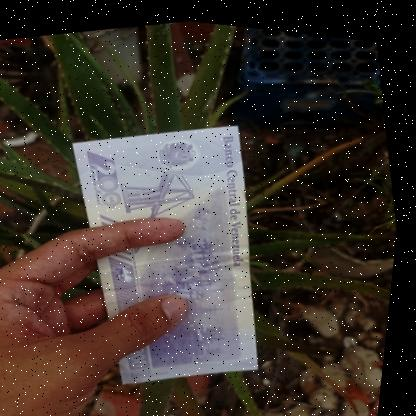two_hundred-back-vef: (53, 103, 292, 399)
